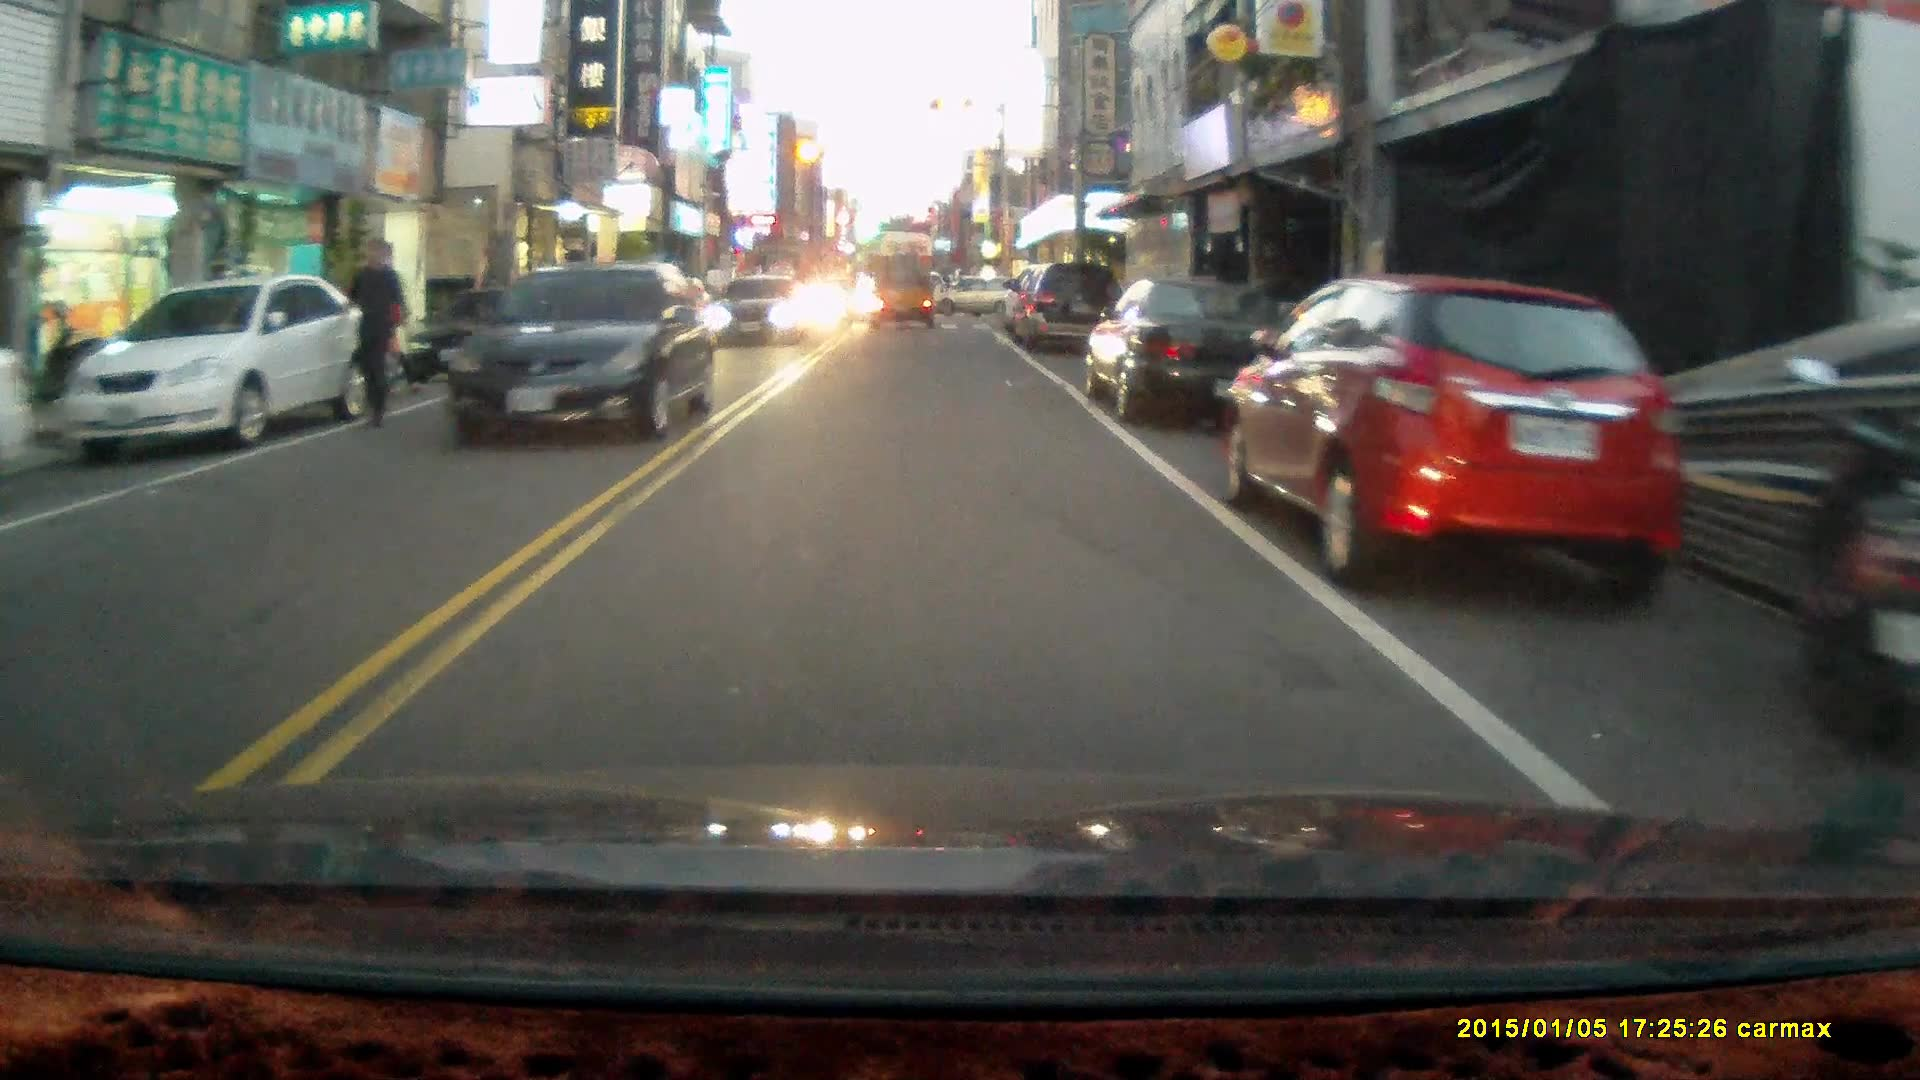pedestrian: (334, 236, 410, 431)
vehicle: (1225, 274, 1688, 611), (54, 273, 367, 461), (432, 262, 719, 449), (1084, 282, 1303, 431), (414, 290, 565, 393), (1003, 266, 1130, 361), (710, 281, 804, 354), (870, 261, 940, 340)
